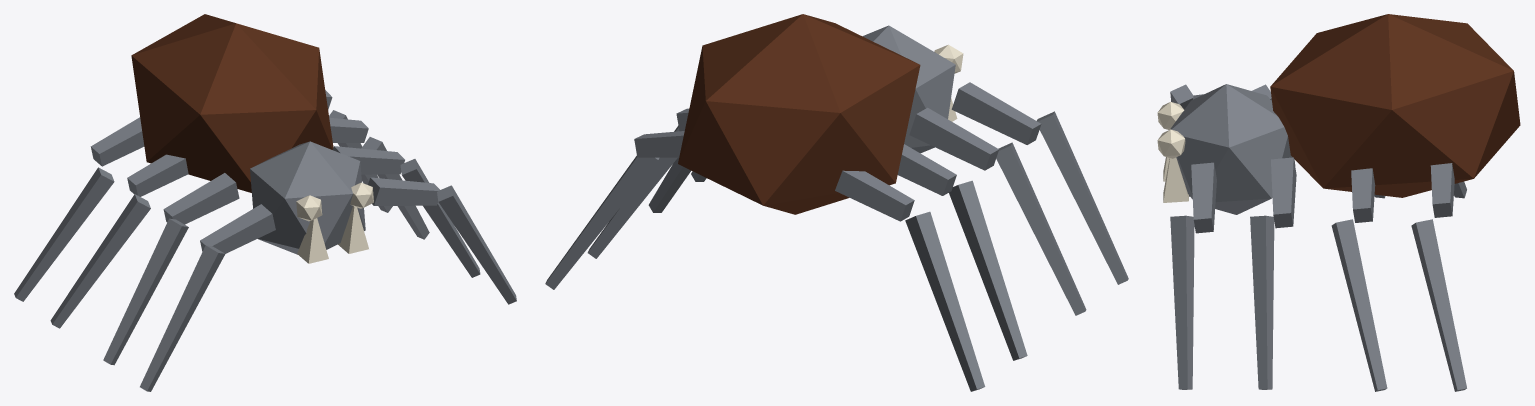
The model's file is npcpose_spider_attack_12.glb.
3 renders of one model, left to right at view 1: azimuth 30°, elevation 25°; view 2: azimuth 150°, elevation 25°; view 3: azimuth 270°, elevation 25°, orthographic. The views are drawn at different scales.
Parts seen in each view (by area): view 1: npcpose; view 2: npcpose; view 3: npcpose.
Boxes of the visible parts, <box> form: npcpose: <box>14,14,516,391</box>; npcpose: <box>545,14,1128,391</box>; npcpose: <box>1157,14,1520,391</box>.
Bounding box in the file's own units: 1.31 × 0.8538 × 1.
